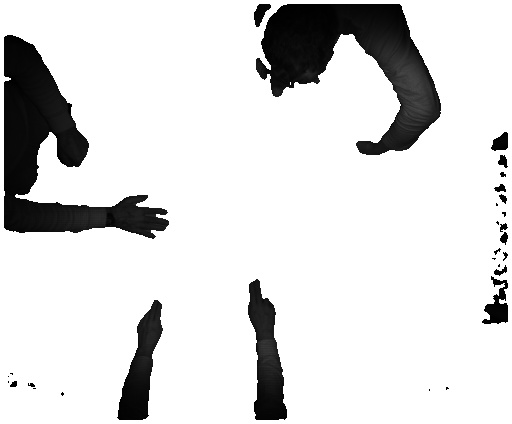fist: (57, 130, 95, 167), (352, 137, 379, 159)
hand: (114, 192, 175, 239), (248, 276, 279, 338), (136, 296, 167, 349)
